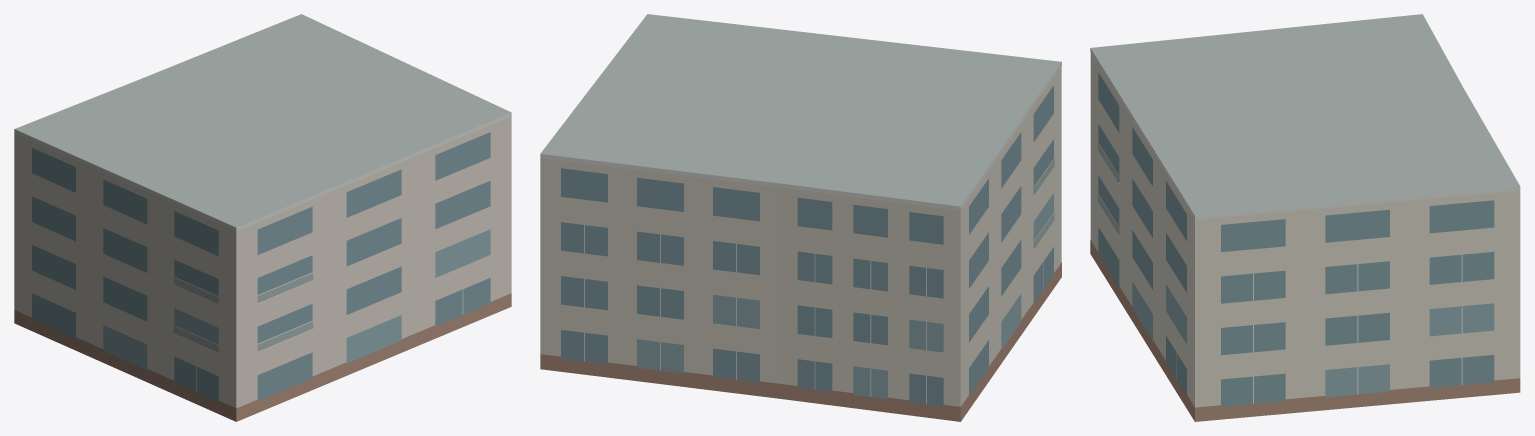
The model's file is survey-upis-32800397.glb.
3 views of the same model, side by side, from view 1: azimuth 30°, elevation 25°; view 2: azimuth 150°, elevation 25°; view 3: azimuth 270°, elevation 25° (orthographic). The views are drawn at different scales.
Parts seen in each view (by area): view 1: survey-upis-32800397.tmp; view 2: survey-upis-32800397.tmp; view 3: survey-upis-32800397.tmp.
Part boxes in pixels (bbox=[...]): survey-upis-32800397.tmp: bbox=[14, 14, 511, 421]; survey-upis-32800397.tmp: bbox=[540, 14, 1061, 421]; survey-upis-32800397.tmp: bbox=[1090, 14, 1520, 421].
Size of the model in its own units: 26.48 by 12.6 by 23.84.
